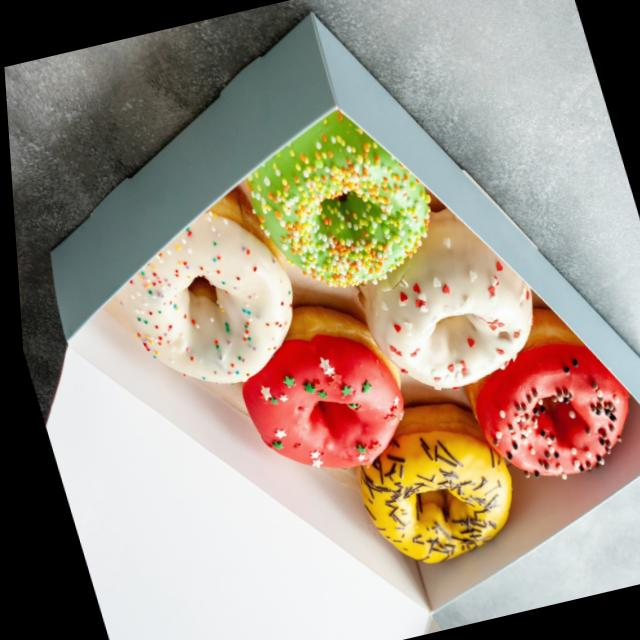donut: (219, 93, 445, 304), (330, 190, 550, 406), (92, 189, 306, 402), (437, 292, 640, 499), (214, 292, 420, 492), (329, 393, 525, 580)
